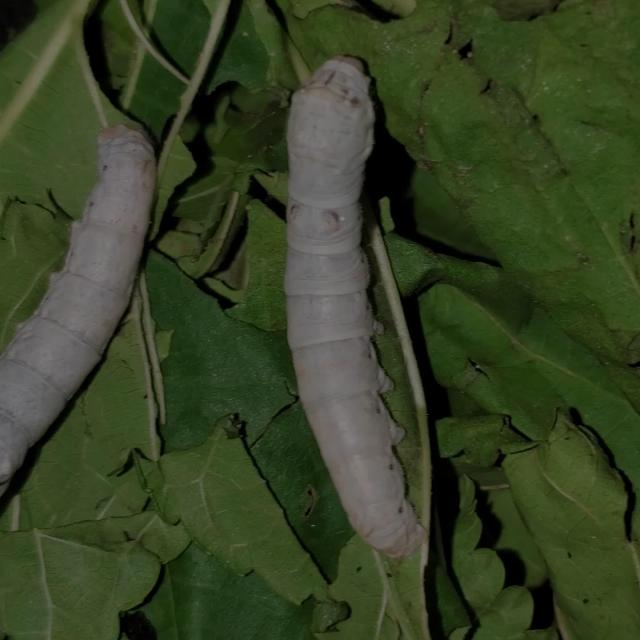Healthy: (247, 41, 452, 570)
